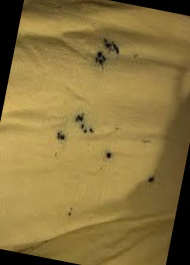ink: (73, 112, 97, 134), (103, 38, 122, 52), (92, 51, 106, 66), (56, 132, 65, 141), (146, 176, 155, 185), (105, 152, 112, 160)
